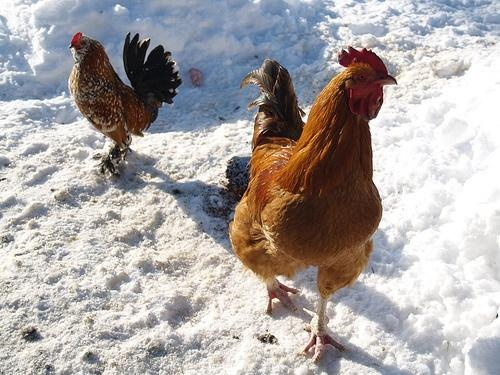bird: (234, 46, 397, 361), (65, 32, 178, 178)
